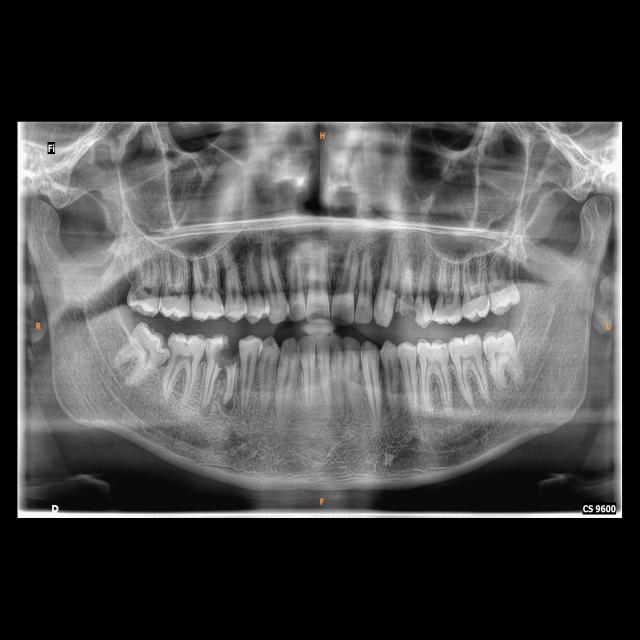dentin-curugu: (397, 295, 423, 328), (215, 344, 239, 368)
